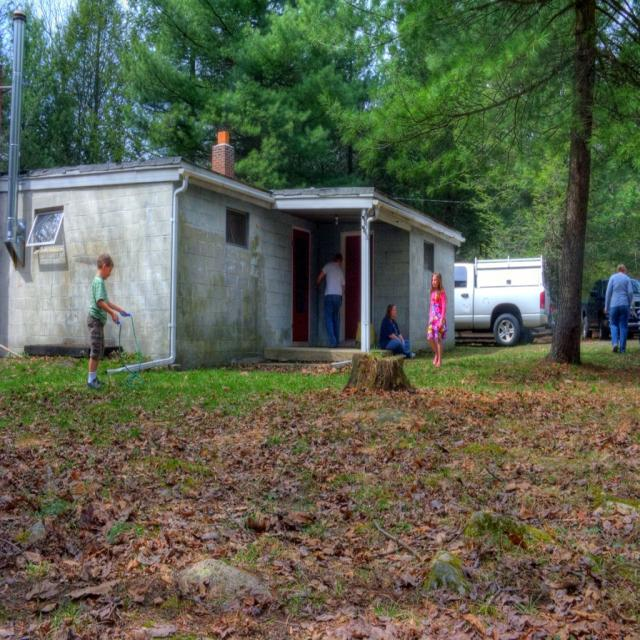Car: (581, 278, 640, 340)
